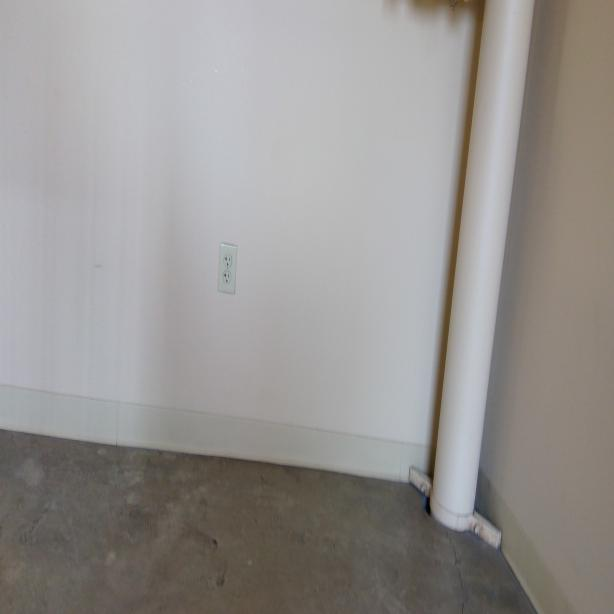typeb: (223, 251, 232, 268), (222, 270, 232, 284)
